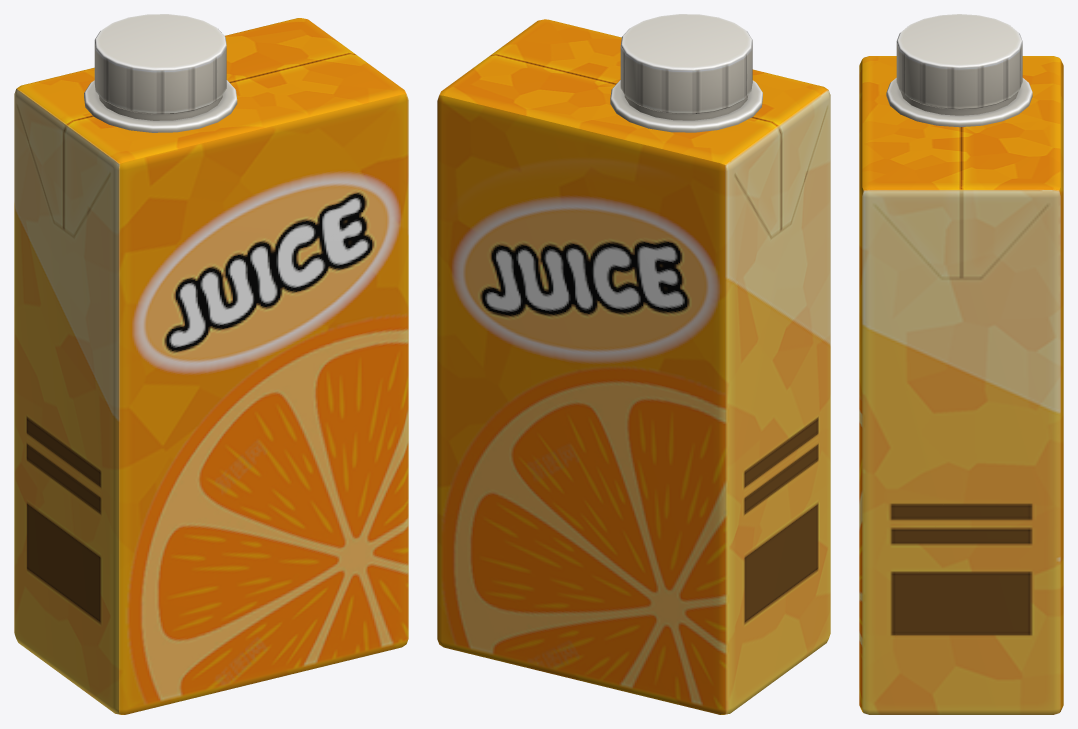
The model's file is fruitjuice_orange.fbx.
3 views of the same model, side by side, from view 1: azimuth 30°, elevation 25°; view 2: azimuth 150°, elevation 25°; view 3: azimuth 270°, elevation 25° (orthographic). The views are drawn at different scales.
Parts seen in each view (by area): view 1: _fruitjuice_orange; view 2: _fruitjuice_orange; view 3: _fruitjuice_orange.
Boxes of the visible parts, x1,y1,x2,y2 form: _fruitjuice_orange: (14,14,408,714); _fruitjuice_orange: (437,14,830,714); _fruitjuice_orange: (859,14,1063,714).
Size of the model in its own units: 0.5145 by 1.03 by 0.3248.
